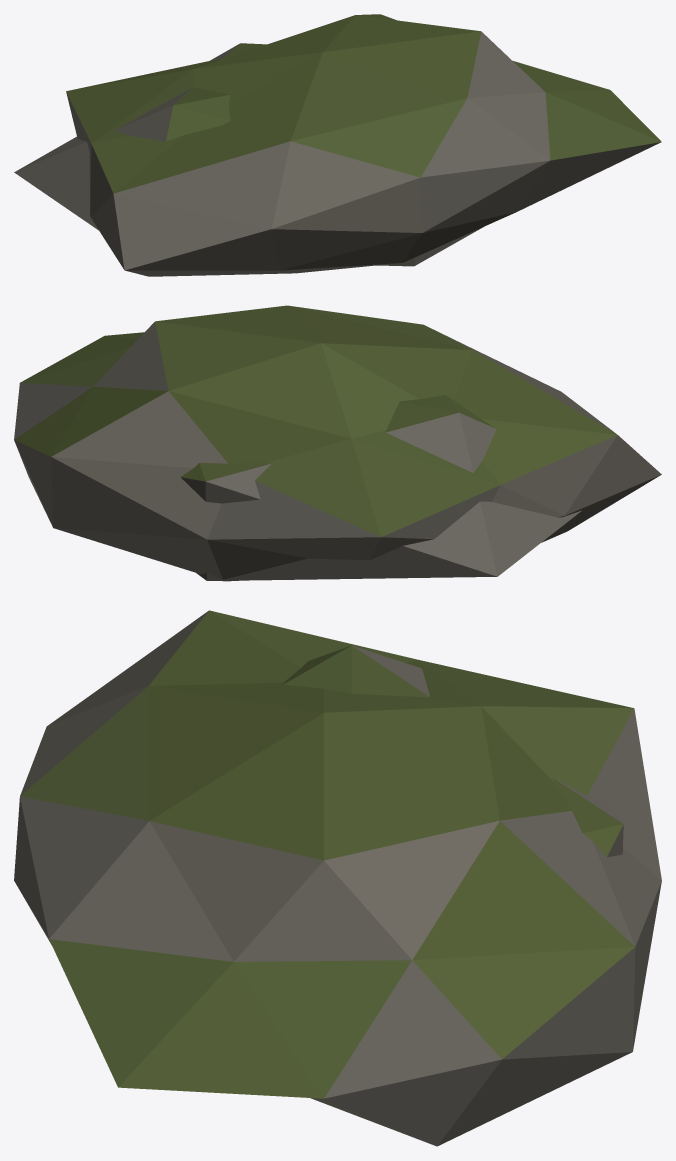
File: rock-b.glb
3 views of the same model, one above another, from view 1: azimuth 30°, elevation 25°; view 2: azimuth 150°, elevation 25°; view 3: azimuth 270°, elevation 25° (orthographic). The views are drawn at different scales.
Parts seen in each view (by area): view 1: lod0_stone, lod1_stone; view 2: lod0_stone, lod1_stone; view 3: lod0_stone, lod1_stone.
Part boxes in pixels (x1,y1,x2,y2): lod0_stone: (66,14,661,276); lod1_stone: (14,43,483,266); lod0_stone: (14,305,661,581); lod1_stone: (180,395,581,580); lod0_stone: (14,610,661,1146); lod1_stone: (283,645,623,857).
Size of the model in its own units: 2.56 by 0.7495 by 1.68.
